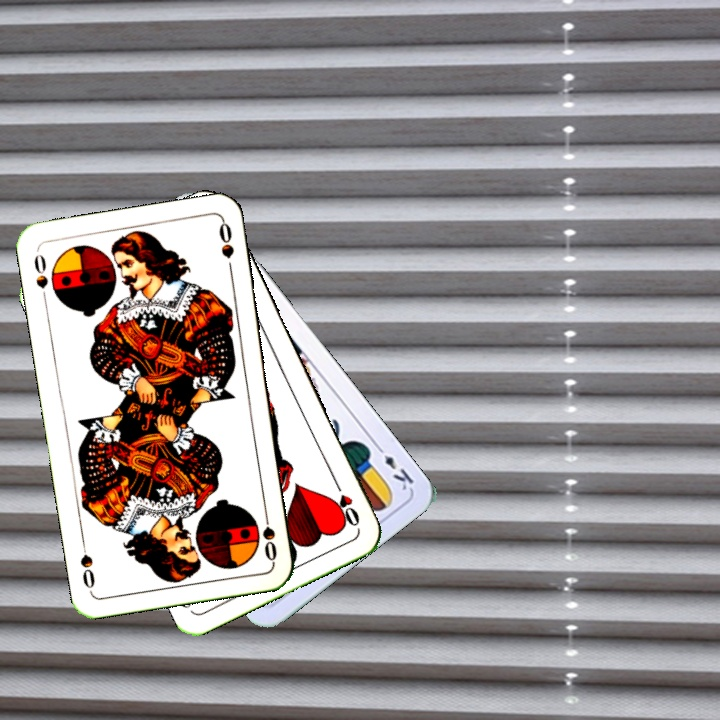EK: (371, 440, 417, 493)
HO: (329, 475, 362, 529)
SO: (258, 505, 280, 564), (30, 250, 51, 306)
